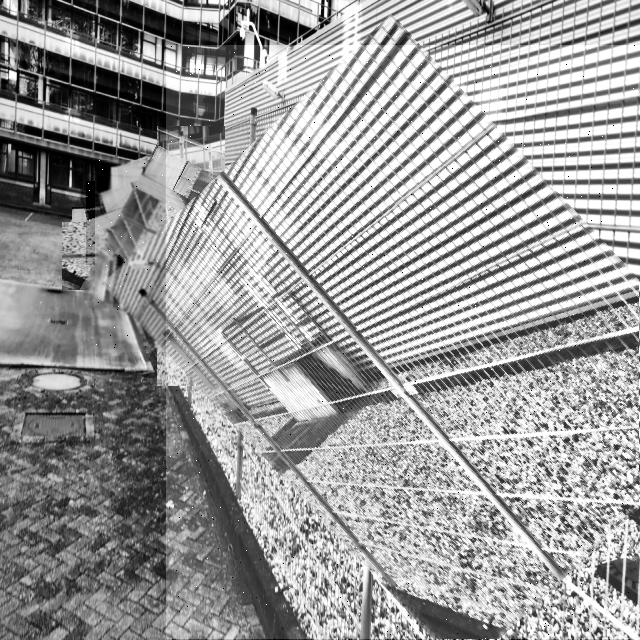fences: (166, 45, 640, 639), (95, 160, 287, 352), (86, 181, 170, 265)
